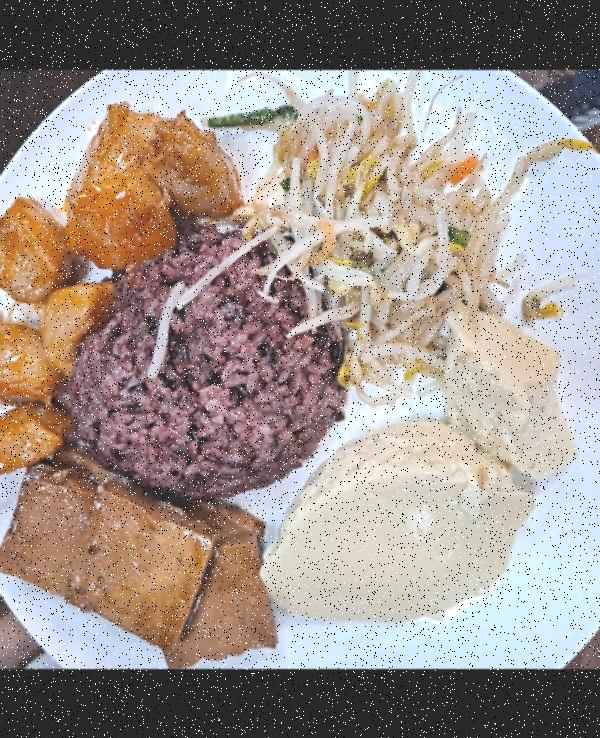big fried chicken leg: (0, 70, 600, 666)
braised fish: (74, 238, 332, 484)
braised fish fillet: (287, 332, 571, 631), (272, 94, 506, 368), (0, 469, 273, 656)
braised pork: (0, 102, 229, 489)
